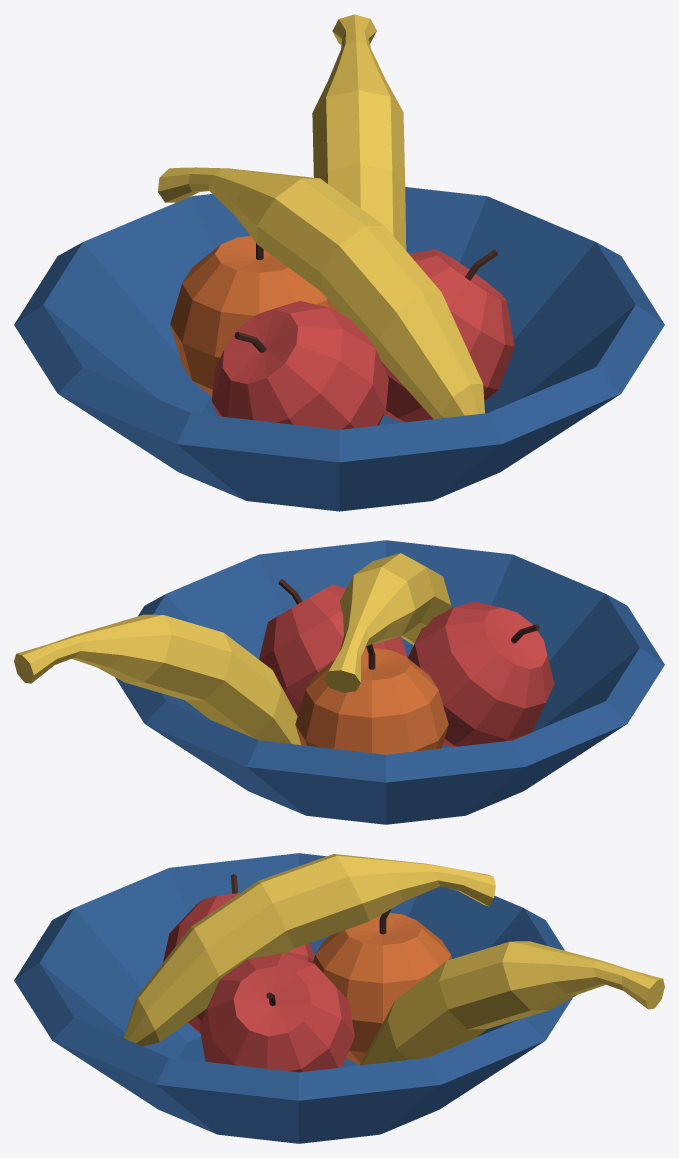
Rendered from Fruit Bowl.glb.
3 renders of one model, top to bottom at view 1: azimuth 30°, elevation 25°; view 2: azimuth 150°, elevation 25°; view 3: azimuth 270°, elevation 25°, orthographic. The views are drawn at different scales.
Parts seen in each view (by area): view 1: FruitBowl; view 2: FruitBowl; view 3: FruitBowl.
Part boxes in pixels (bbox=[...]): FruitBowl: bbox=[14, 14, 664, 511]; FruitBowl: bbox=[14, 540, 664, 824]; FruitBowl: bbox=[14, 853, 664, 1143].
Size of the model in its own units: 0.2225 by 0.0975 by 0.2541.
Materials: 1 (1 with a texture image).
